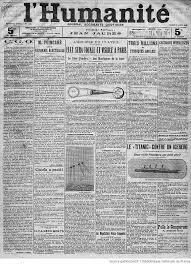Printing industry: (3, 2, 191, 264)
